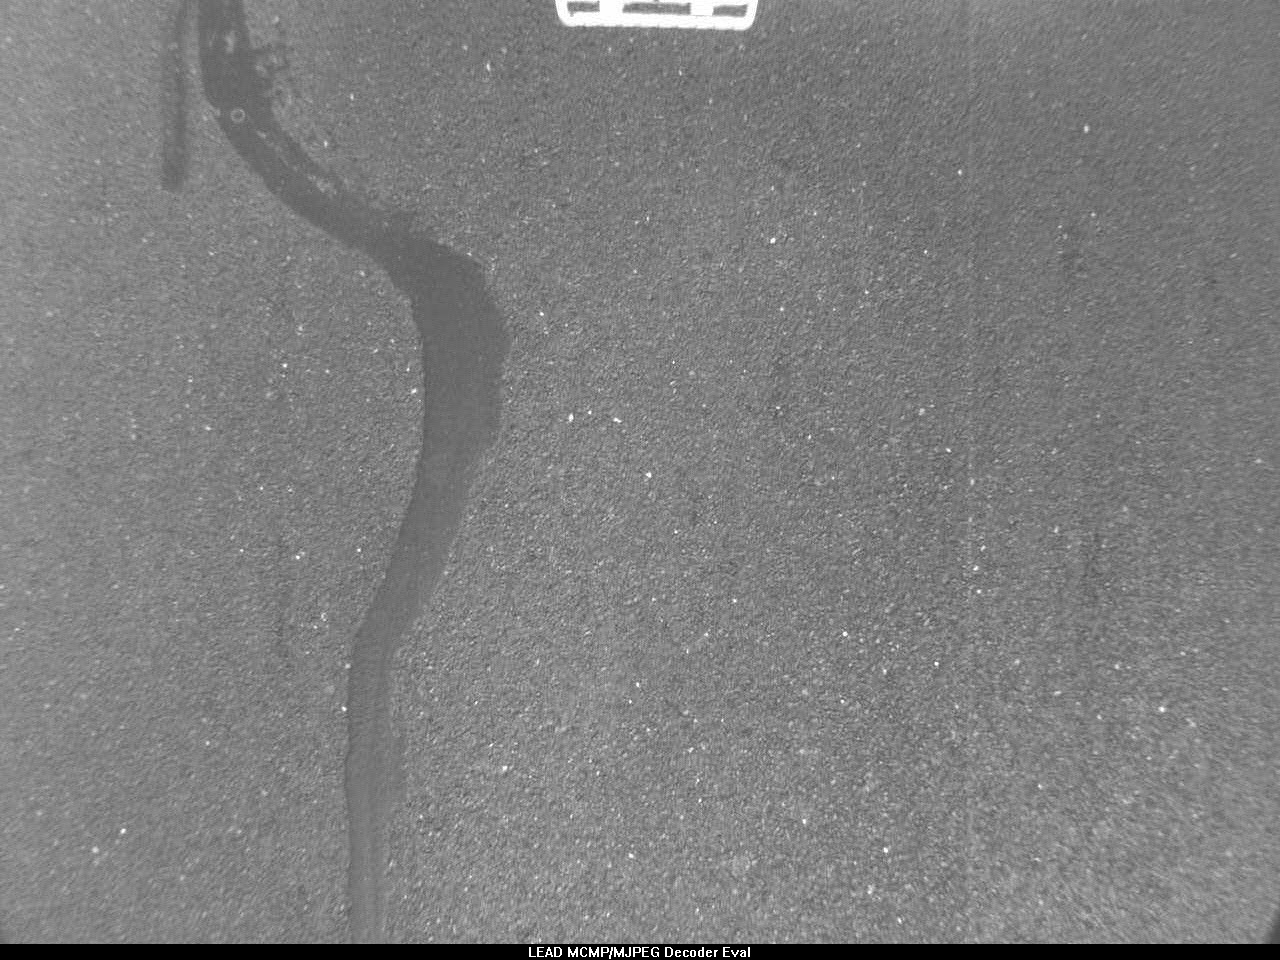sealed: (181, 1, 547, 931)
